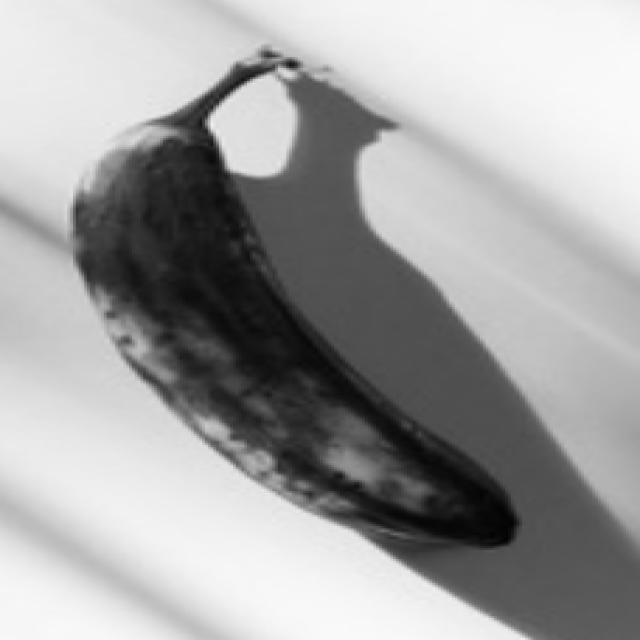Rotten: (56, 41, 568, 573)
